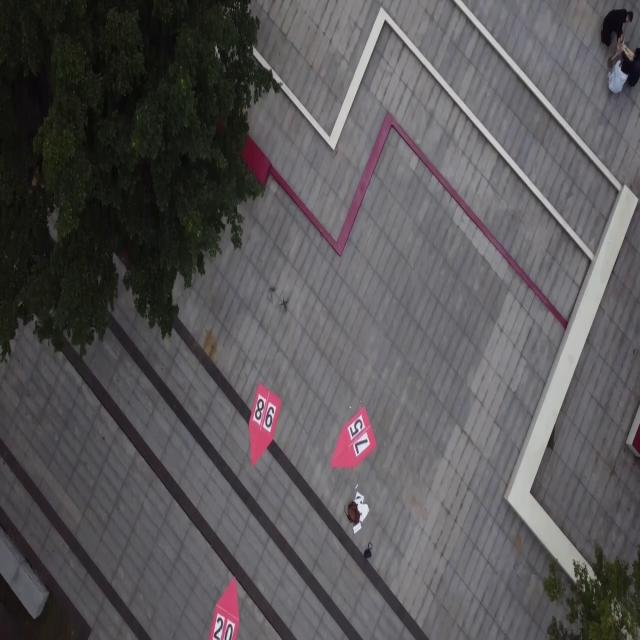-sign-: (330, 406, 377, 470), (248, 382, 282, 468), (208, 578, 240, 638)
